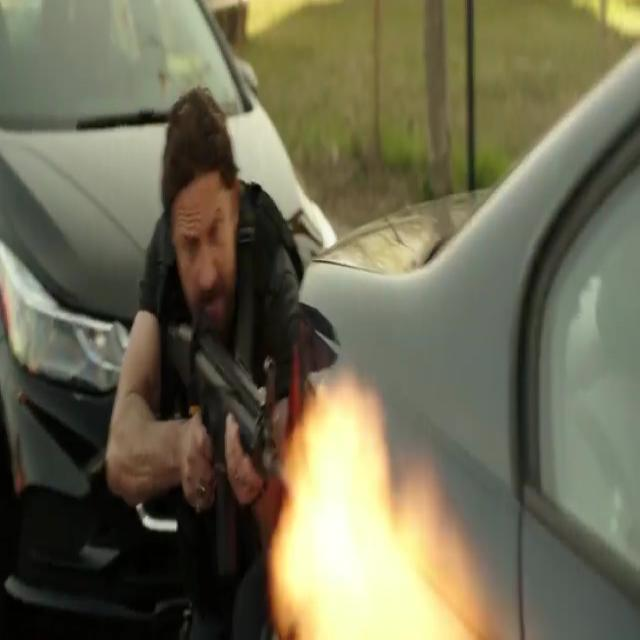Weapon: (156, 311, 290, 498)
